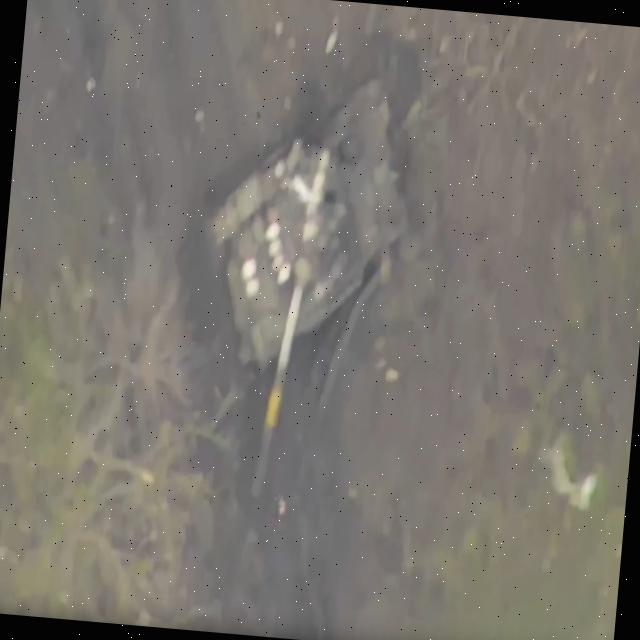MBT: (186, 60, 421, 521)
